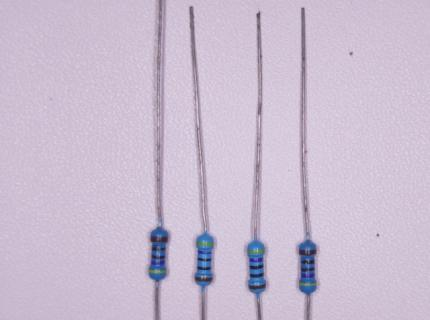Black band: (300, 267, 315, 272), (249, 264, 264, 269), (197, 257, 212, 262), (151, 254, 166, 259), (250, 273, 264, 278), (197, 266, 211, 271), (151, 247, 166, 251), (301, 260, 315, 264)
Brown band: (150, 236, 169, 243), (194, 275, 213, 282), (248, 283, 266, 290), (299, 249, 317, 255)
Violet band: (150, 260, 165, 265), (300, 273, 315, 278), (198, 249, 212, 254), (249, 257, 263, 262)
Yellow band: (247, 248, 266, 254), (148, 269, 167, 274), (299, 282, 317, 287), (196, 241, 214, 246)
